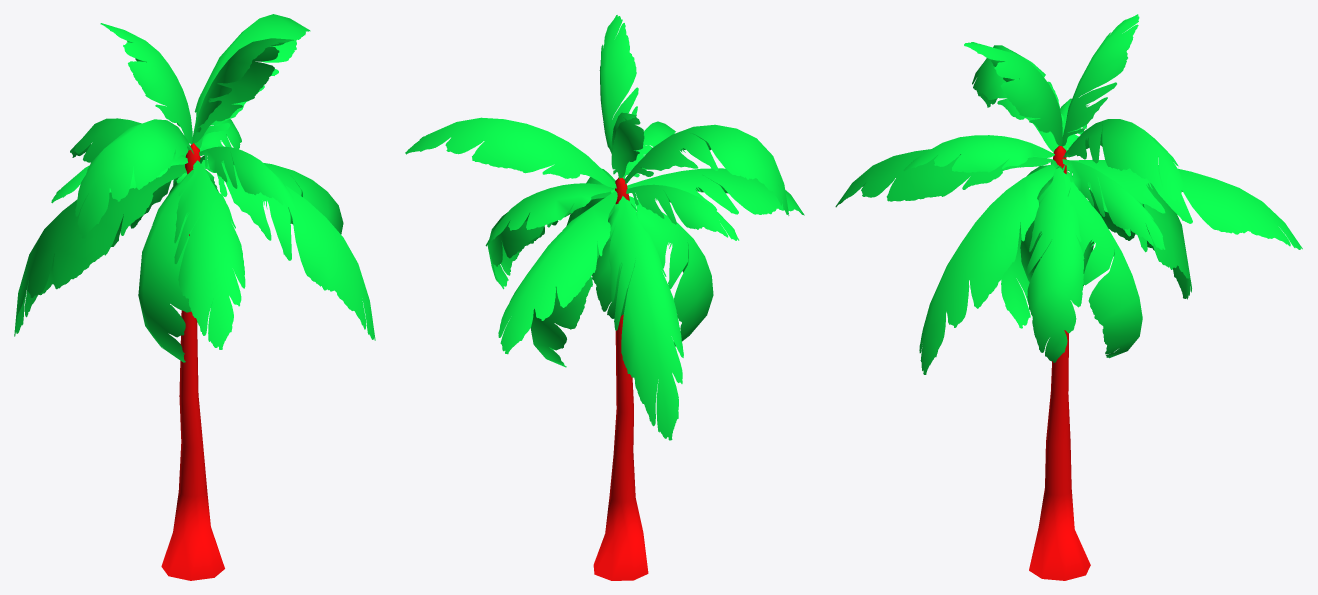
File: Banana_Medium_OneMesh_2018.FBX
3 views of the same model, side by side, from view 1: azimuth 30°, elevation 25°; view 2: azimuth 150°, elevation 25°; view 3: azimuth 270°, elevation 25° (orthographic). The views are drawn at different scales.
Parts seen in each view (by area): view 1: Banana-Medium_LOD0; view 2: Banana-Medium_LOD0; view 3: Banana-Medium_LOD0.
Boxes of the visible parts, left/top/right/bottom form: Banana-Medium_LOD0: left=14, top=14, right=375, bottom=580; Banana-Medium_LOD0: left=405, top=15, right=804, bottom=580; Banana-Medium_LOD0: left=835, top=14, right=1302, bottom=580.
Size of what is drawn, in the model's own units: 33.69 by 55.32 by 42.78.
